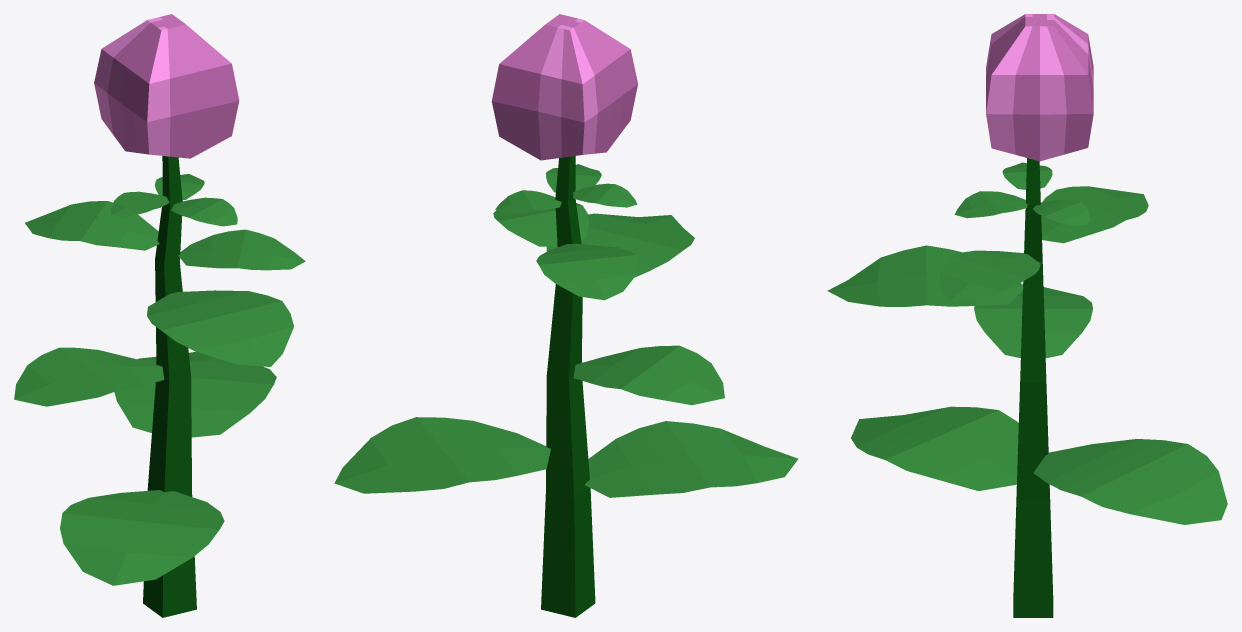
Rendered from plant_big.fbx.
3 renders of one model, left to right at view 1: azimuth 30°, elevation 25°; view 2: azimuth 150°, elevation 25°; view 3: azimuth 270°, elevation 25°, orthographic.
Visible parts, largest first — view 1: flowerbub, leaf_001, plants_001, leaf_009, leaf_006, leaf_008, leaf_003, leaf_002, leaf_007, leaf_005, leaf_004; view 2: flowerbub, plants_001, leaf_006, leaf_001, leaf_008, leaf_003, leaf_009, leaf_002, leaf_005, leaf_004, leaf_007; view 3: flowerbub, plants_001, leaf_006, leaf_001, leaf_009, leaf_008, leaf_002, leaf_003, leaf_007, leaf_004, leaf_005.
Boxes of the visible parts, x1=… form: flowerbub: x1=94, y1=14, x2=239, y2=158; leaf_001: x1=60, y1=490, x2=224, y2=585; plants_001: x1=143, y1=156, x2=196, y2=617; leaf_009: x1=147, y1=290, x2=293, y2=366; leaf_006: x1=114, y1=351, x2=276, y2=437; leaf_008: x1=14, y1=347, x2=164, y2=406; leaf_003: x1=25, y1=201, x2=159, y2=250; leaf_002: x1=178, y1=229, x2=305, y2=270; leaf_007: x1=171, y1=197, x2=237, y2=226; leaf_005: x1=110, y1=191, x2=169, y2=217; leaf_004: x1=155, y1=174, x2=204, y2=199; flowerbub: x1=491, y1=14, x2=637, y2=160; plants_001: x1=541, y1=156, x2=595, y2=617; leaf_006: x1=334, y1=417, x2=550, y2=493; leaf_001: x1=585, y1=421, x2=798, y2=497; leaf_008: x1=573, y1=345, x2=724, y2=405; leaf_003: x1=536, y1=243, x2=638, y2=300; leaf_009: x1=546, y1=213, x2=694, y2=277; leaf_002: x1=493, y1=203, x2=588, y2=246; leaf_005: x1=573, y1=183, x2=637, y2=207; leaf_004: x1=495, y1=190, x2=561, y2=213; leaf_007: x1=546, y1=164, x2=601, y2=192; flowerbub: x1=986, y1=14, x2=1093, y2=161; plants_001: x1=1013, y1=158, x2=1053, y2=617; leaf_006: x1=1033, y1=439, x2=1227, y2=524; leaf_001: x1=851, y1=406, x2=1018, y2=490; leaf_009: x1=827, y1=245, x2=1023, y2=306; leaf_008: x1=974, y1=287, x2=1092, y2=358; leaf_002: x1=940, y1=250, x2=1040, y2=300; leaf_003: x1=1041, y1=186, x2=1148, y2=243; leaf_007: x1=954, y1=191, x2=1027, y2=218; leaf_004: x1=1033, y1=199, x2=1089, y2=226; leaf_005: x1=1002, y1=162, x2=1052, y2=189.
Bounding box in the file's own units: 111 × 203 × 125.
